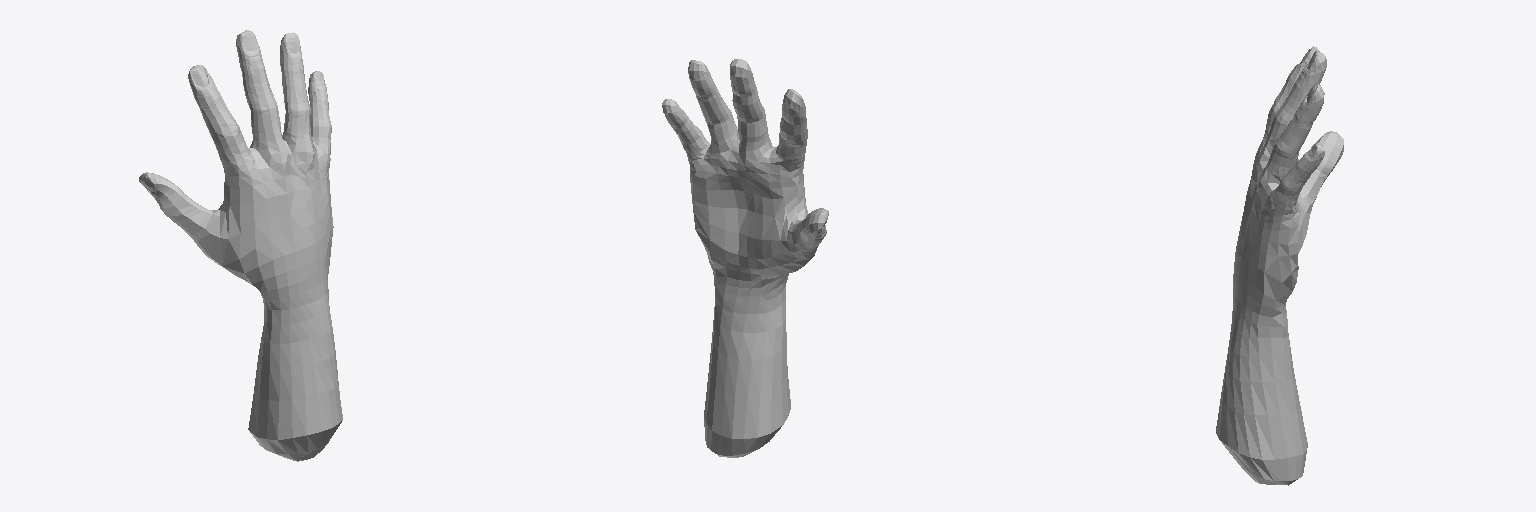
The model's file is static_hand.obj.
3 views of the same model, side by side, from view 1: azimuth 30°, elevation 25°; view 2: azimuth 150°, elevation 25°; view 3: azimuth 270°, elevation 25° (orthographic).
Visible parts, largest first — view 1: HandMesh; view 2: HandMesh; view 3: HandMesh.
Boxes of the visible parts, box(x1,y1,x2,y2) form: HandMesh: box(139, 30, 342, 461); HandMesh: box(662, 59, 828, 457); HandMesh: box(1216, 46, 1343, 485).
Bounding box in the file's own units: 0.3415 × 0.7873 × 0.2199.